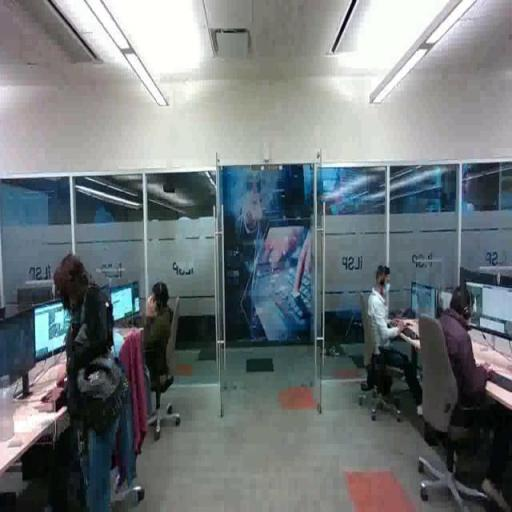person: (56, 255, 132, 512)
